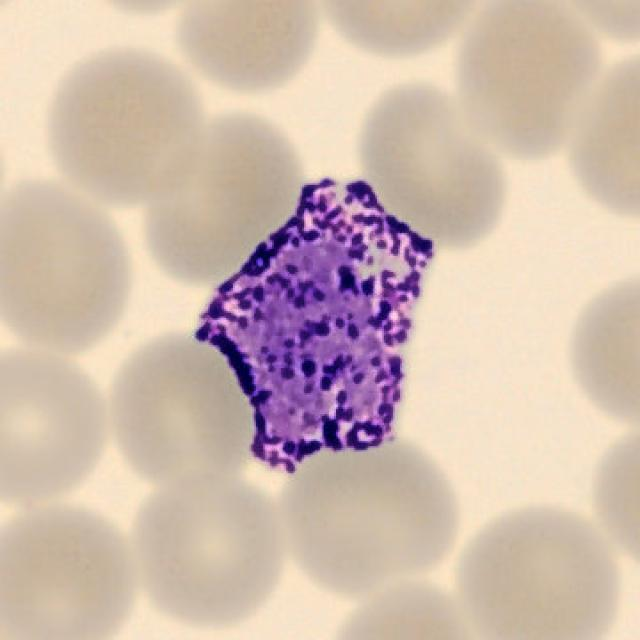Basofilo: (192, 181, 434, 475)
